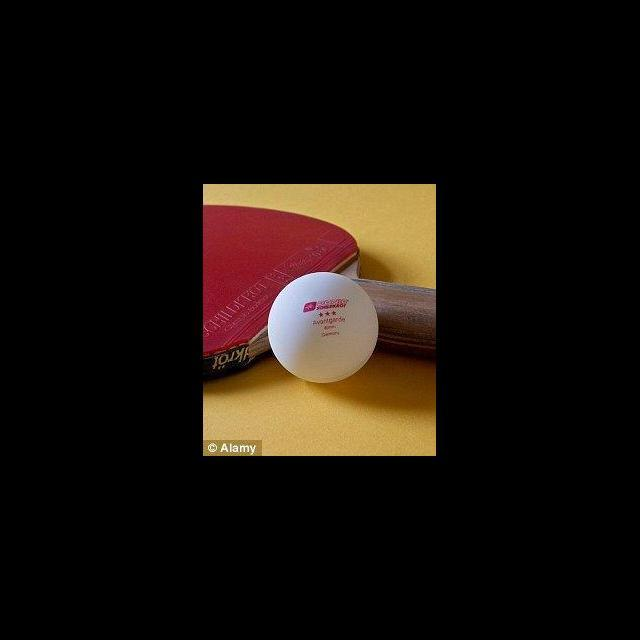ping-pong-ball: (268, 270, 382, 383)
